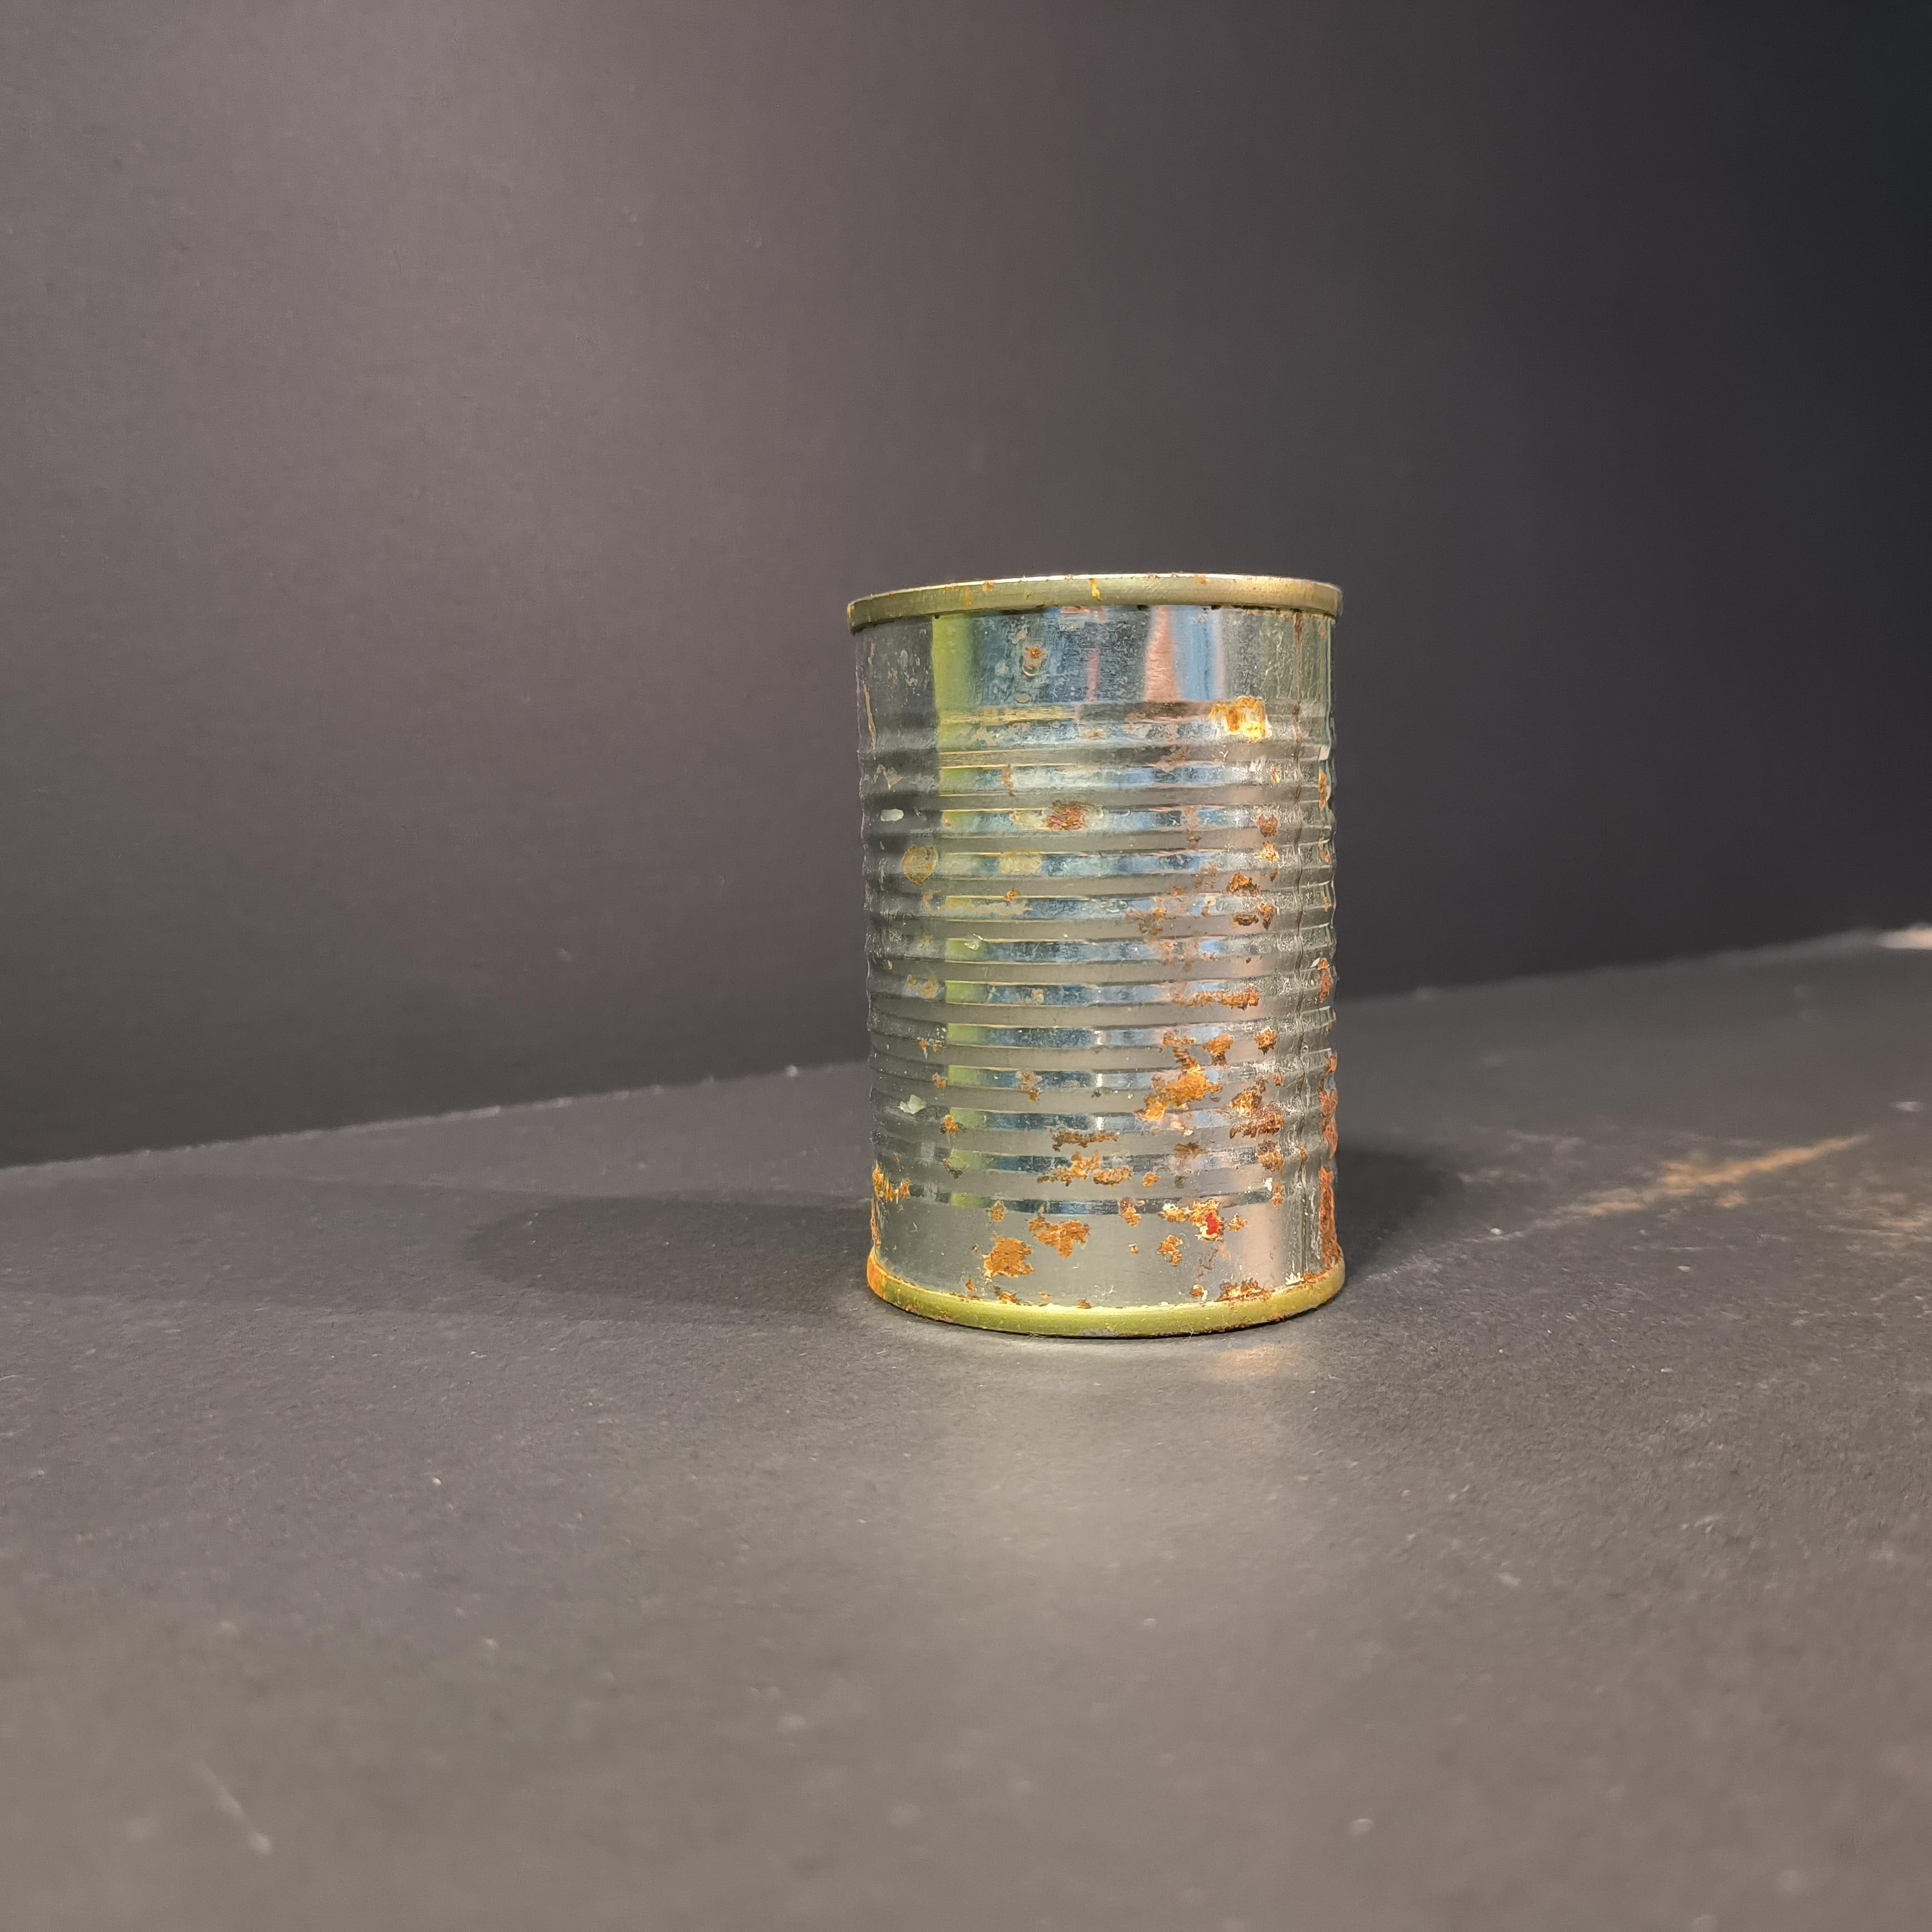Rusted: (830, 550, 1366, 1345)
